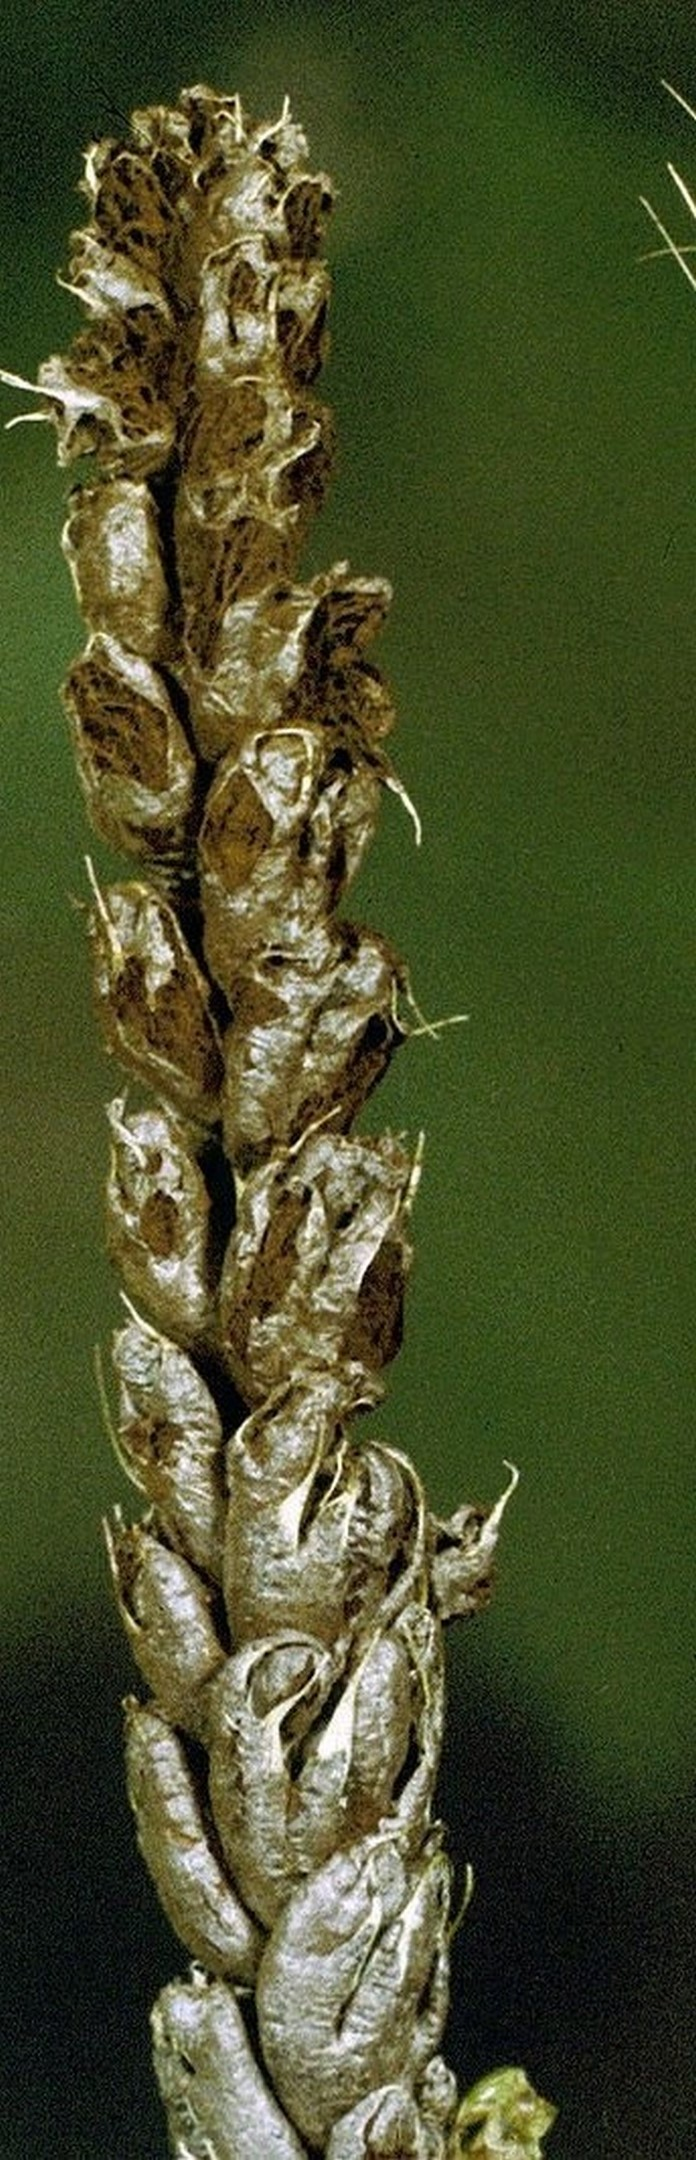Wheat Loose Smut: (44, 90, 521, 2160)
